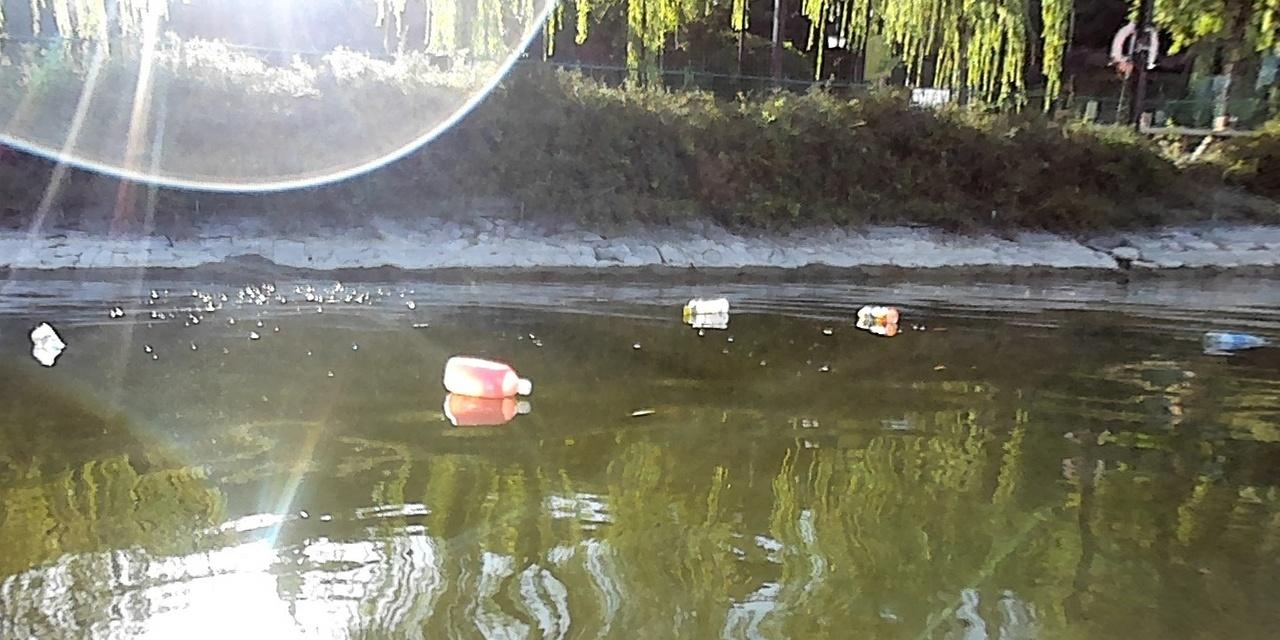bottle: (439, 351, 535, 399), (1198, 326, 1270, 350), (25, 318, 68, 351), (679, 294, 730, 317), (852, 303, 899, 324)
